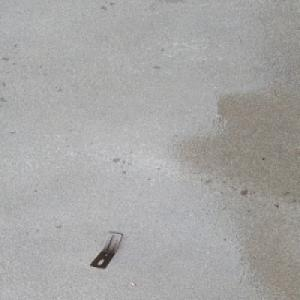MetalPart: (88, 231, 124, 270)
